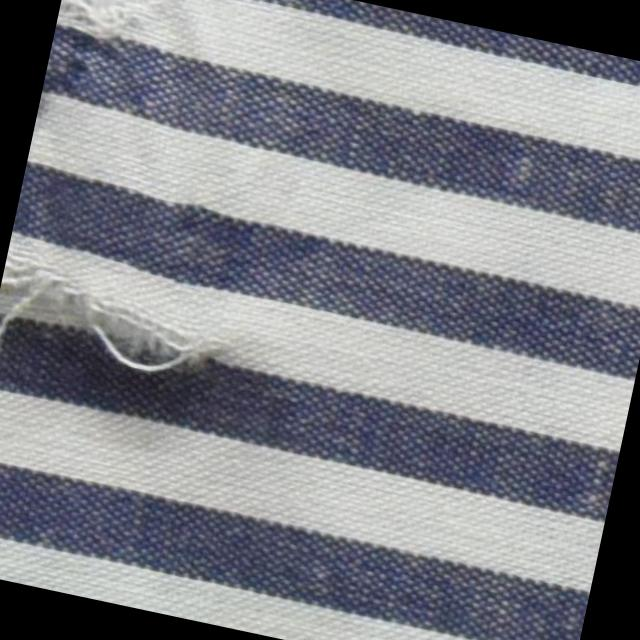cut: (0, 246, 233, 398)
